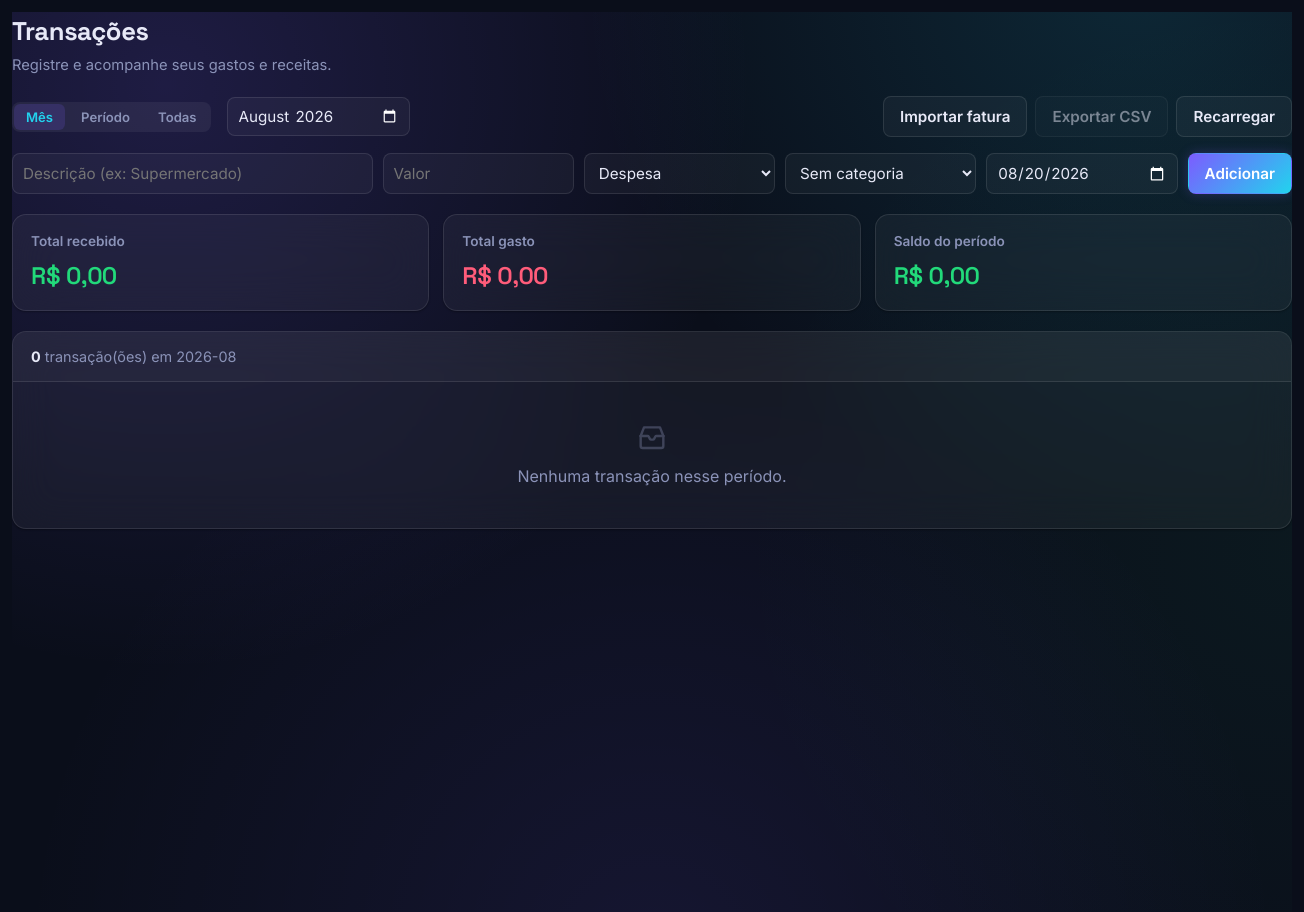
Test case: Transacoes › cria uma nova transação e a mostra na lista
Expected: the text "Nenhuma transação nesse período." is shown, left=518, top=422, right=786, bottom=486
Type "Padaria" into the field labelled "Descrição" at (192, 174), box left=12, top=154, right=372, bottom=194
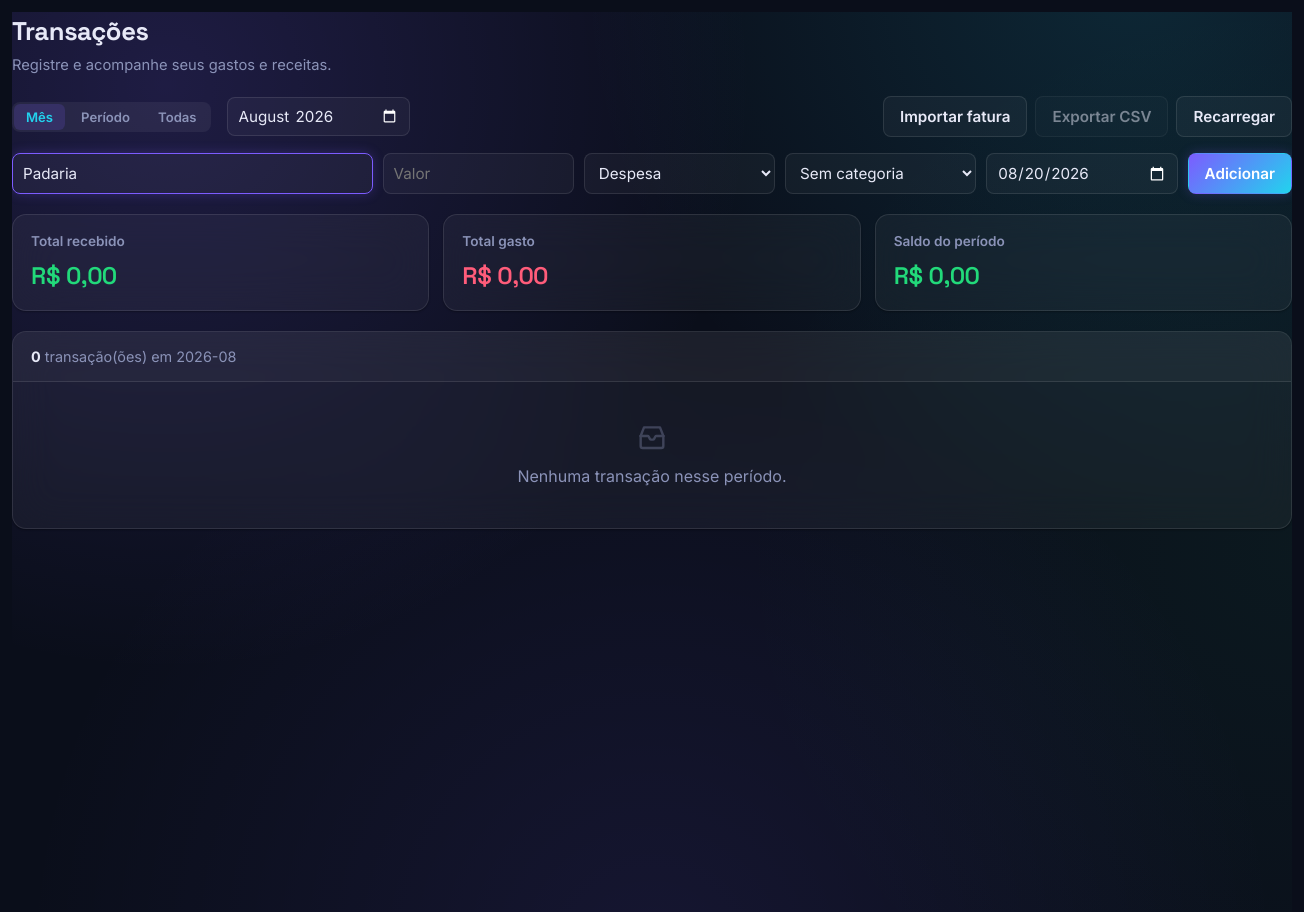
Type "25" into the number field labelled "Valor" at (478, 174), box left=382, top=154, right=574, bottom=194
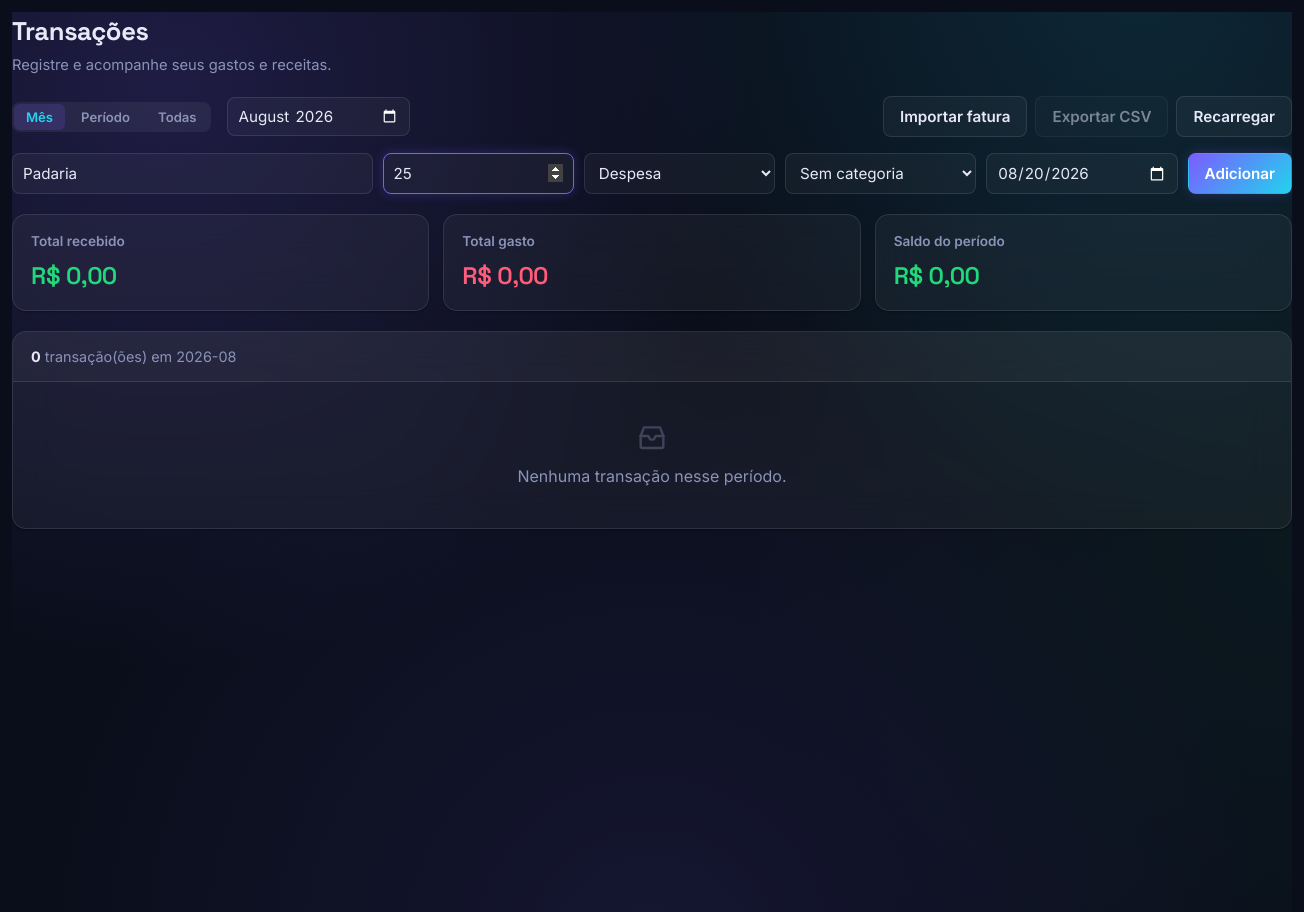
Click the button "Adicionar" at (1240, 174), box left=1188, top=154, right=1292, bottom=194
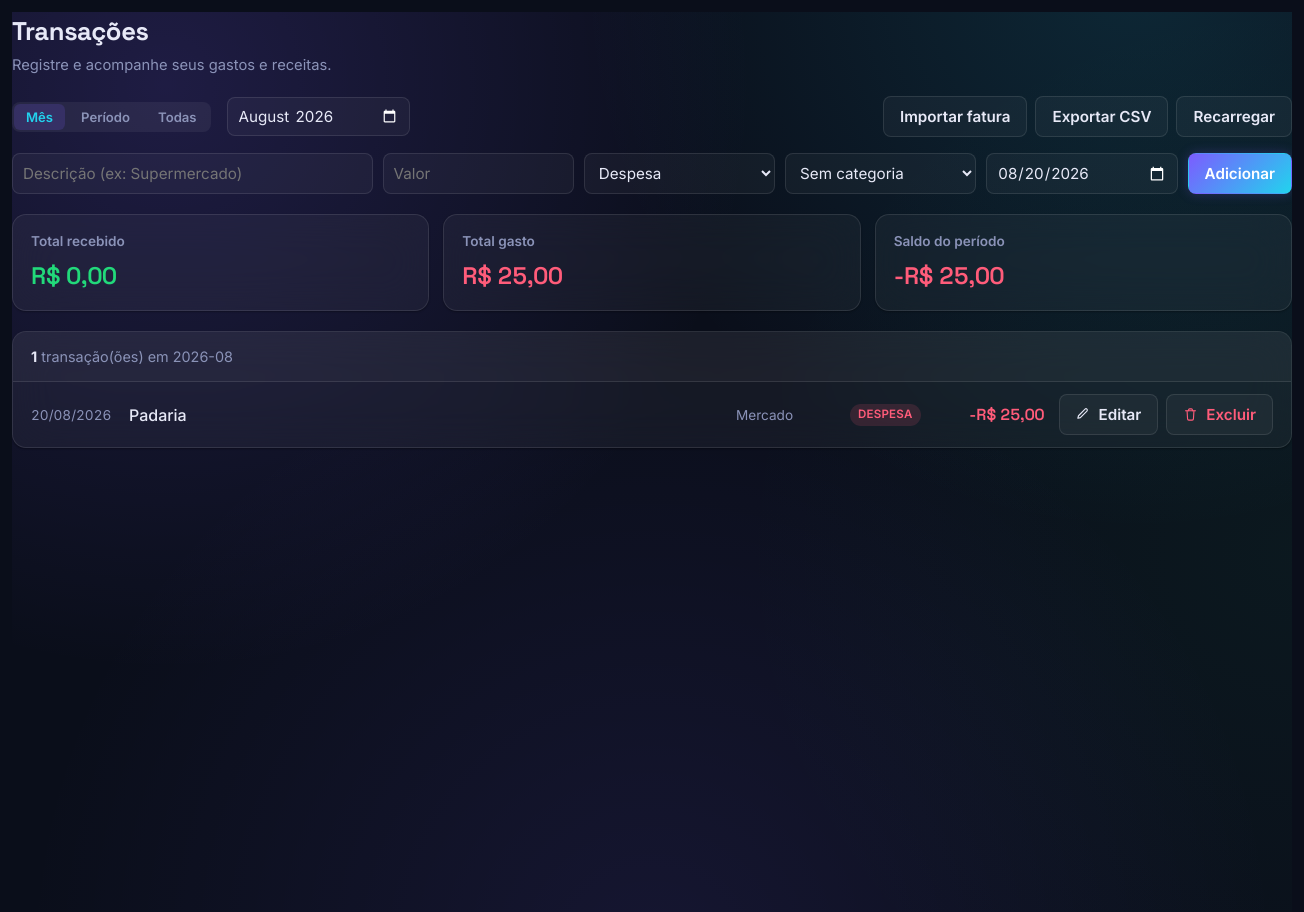
Now the text "Padaria" is shown, box left=129, top=405, right=187, bottom=425
